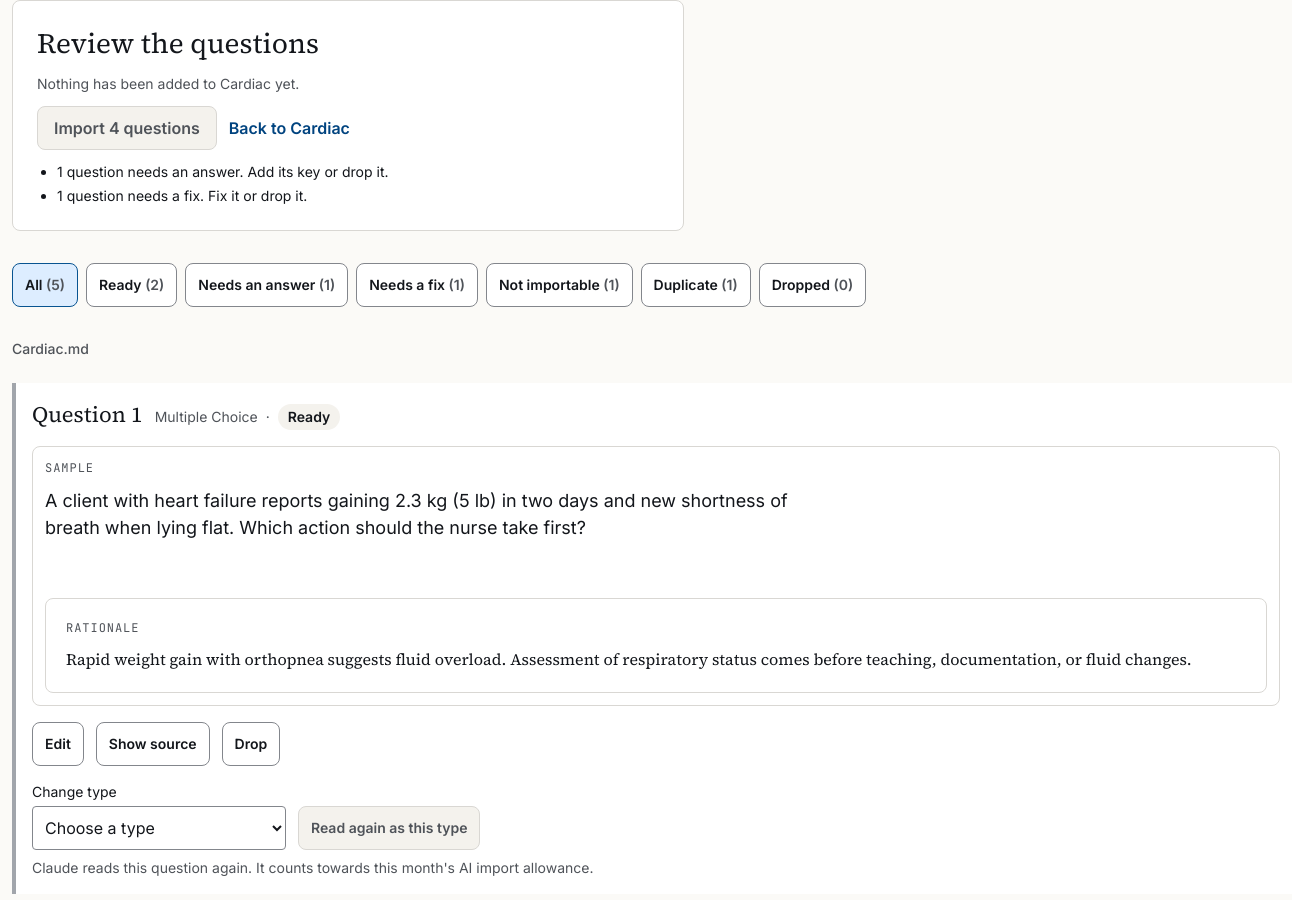
AiImportReview (#346) › filters by status and by duplicate, with counts
Check: the button "Duplicate (1)" is shown, box [641,263,751,307]
Click the button "Not importable (1)": {"x": 559, "y": 285} [486,263,633,307]
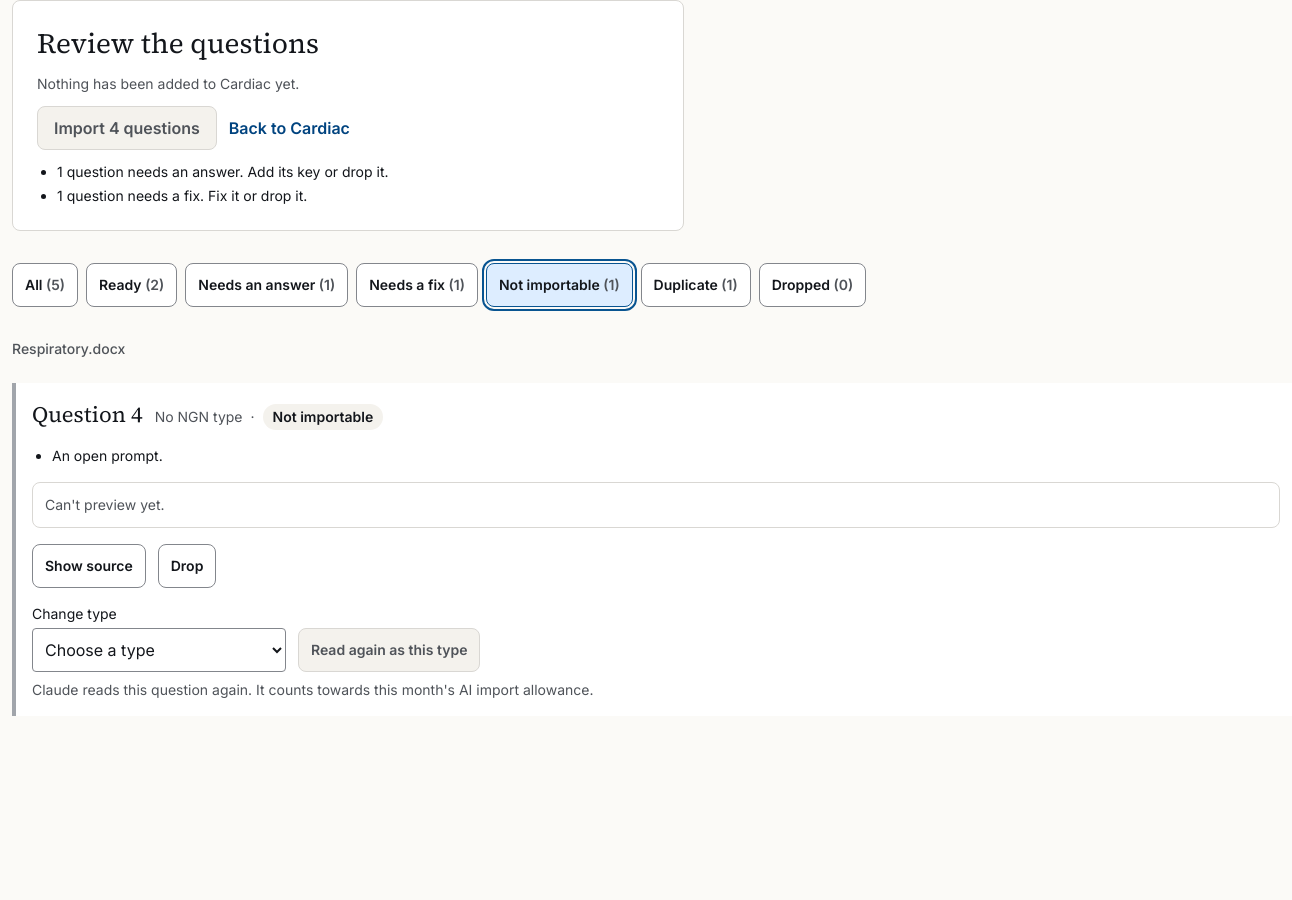
Check: the list item "An open prompt." is shown, box [52,447,163,464]
Check: the button "Not importable (1)" is pressed, box [486,263,633,307]
Click the button "Dropped (0)": {"x": 812, "y": 285} [759,263,866,307]
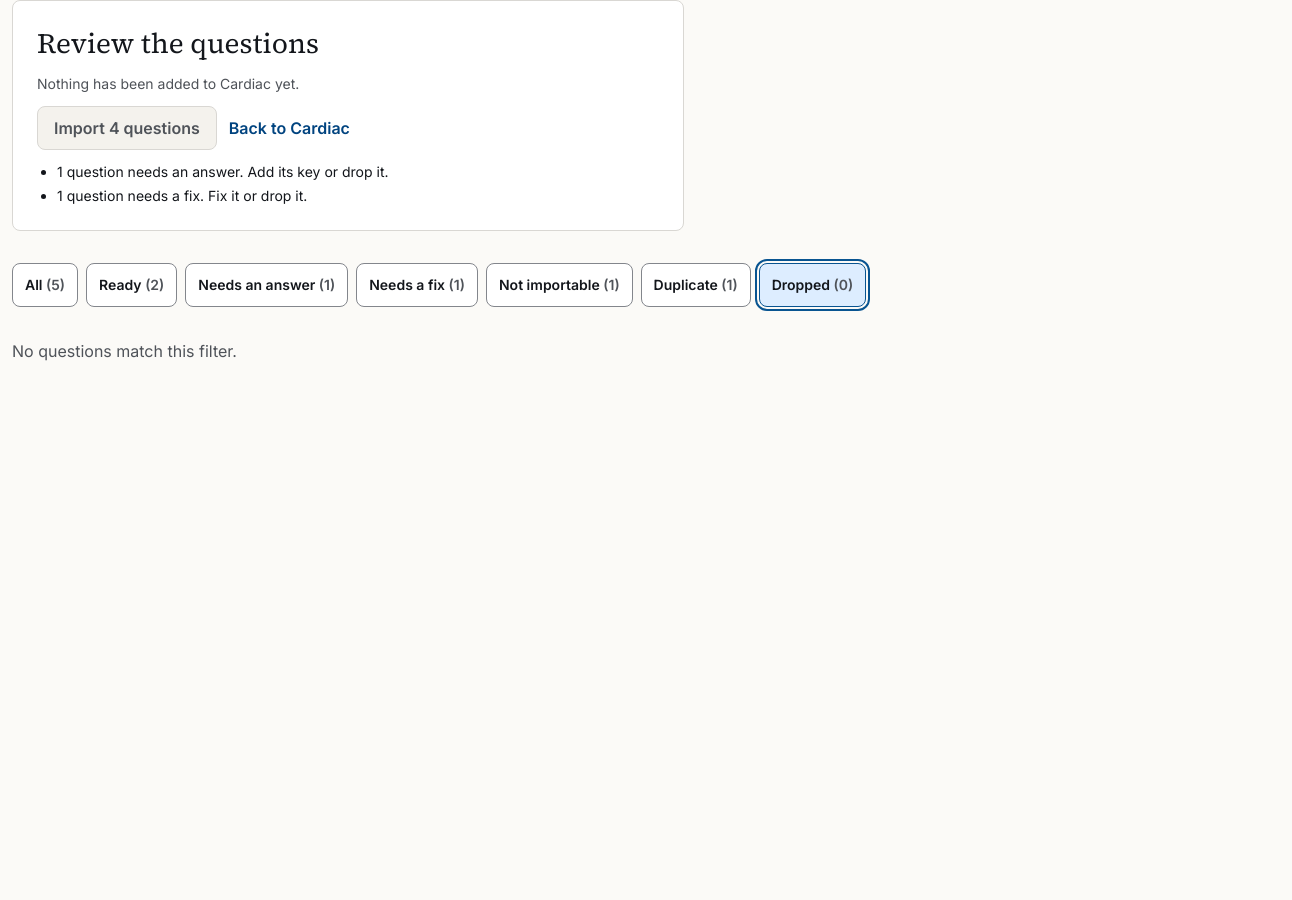
Check: the text "No questions match this filter." is shown, box [12,341,237,361]
